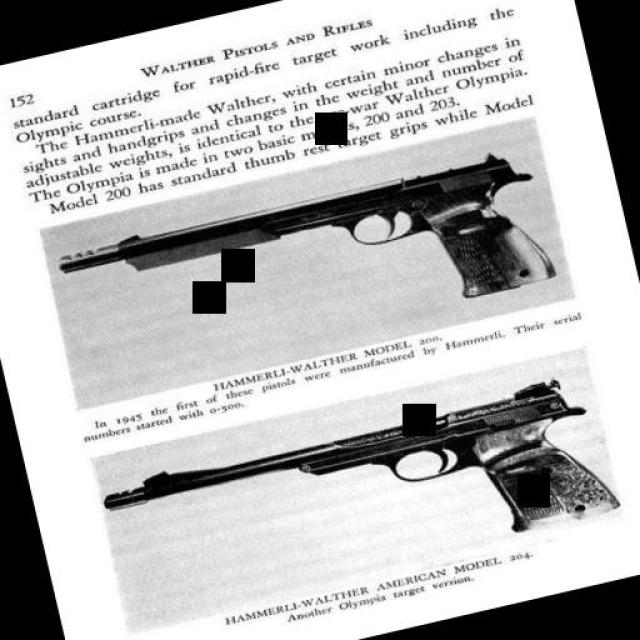gun: (47, 135, 565, 399), (99, 366, 621, 624)
